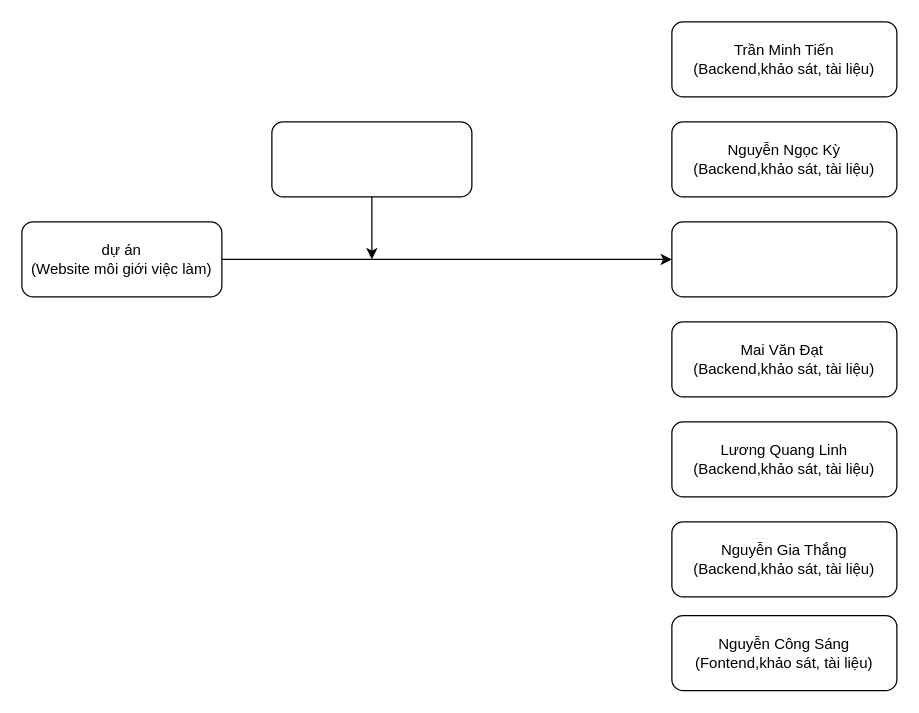
The diagram is 919 pixels wide and 713 high, and some of its shapes have lost their labels. Here are the shapes that lost their labels. From the top down, the centre of each, then its label:
the point at 371,159: GVHD Thầy Hoàng Quang Thắng
the point at 784,259: Nguyễn Bá Tuyên (Backend,khảo sát, tài liệu)
